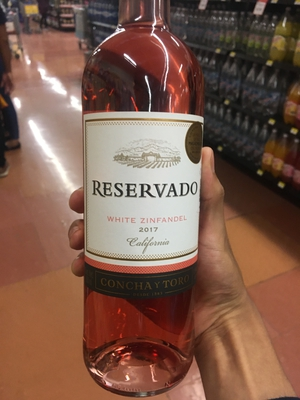reservado white zinfandel: (66, 10, 214, 385)
